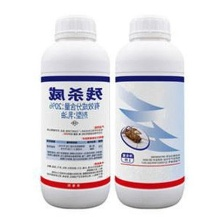book: (36, 10, 113, 210), (113, 13, 189, 210)
